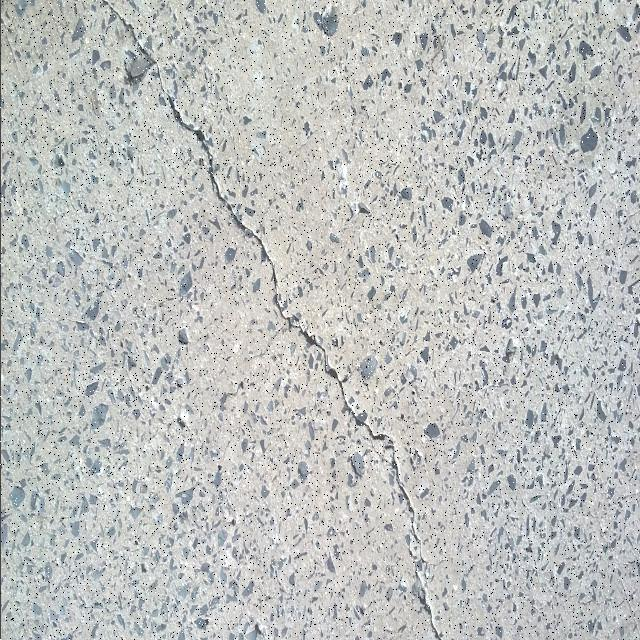Crack: (231, 212, 399, 481), (101, 0, 231, 212), (395, 479, 427, 587), (413, 561, 441, 640)
